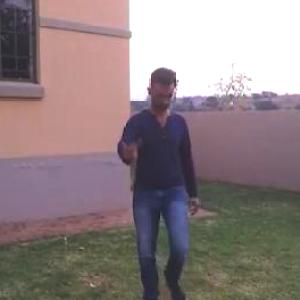takeoff-hand: (109, 126, 143, 163)
